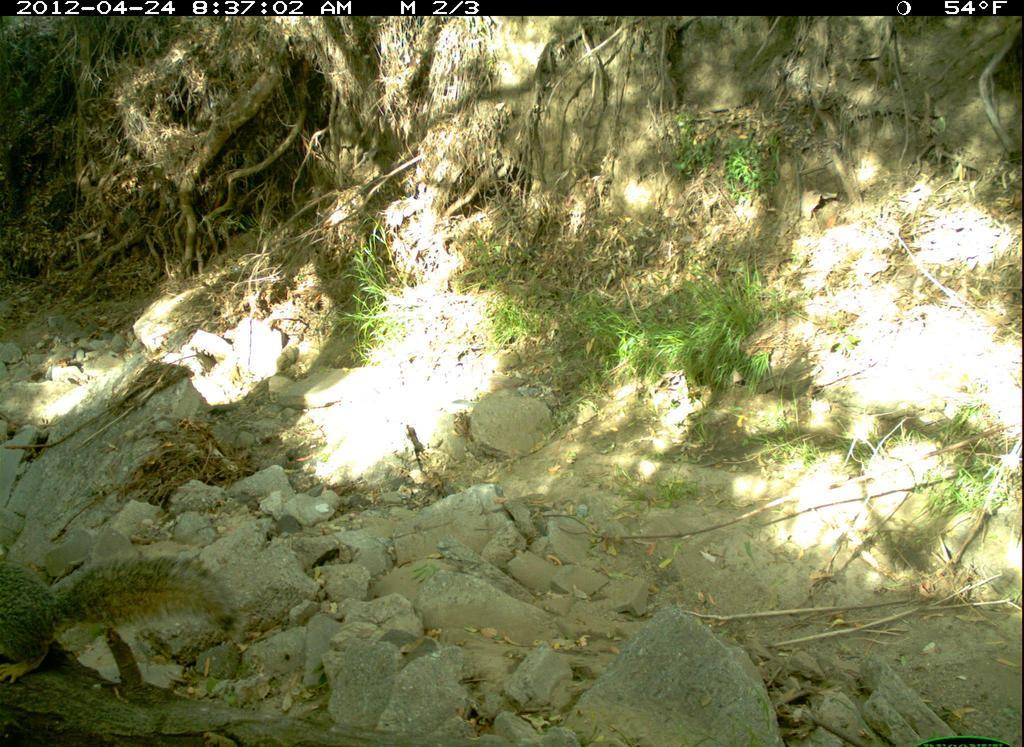squirrel: (1, 546, 241, 685)
